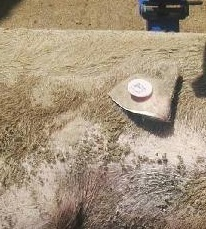text: (116, 62, 161, 112)
